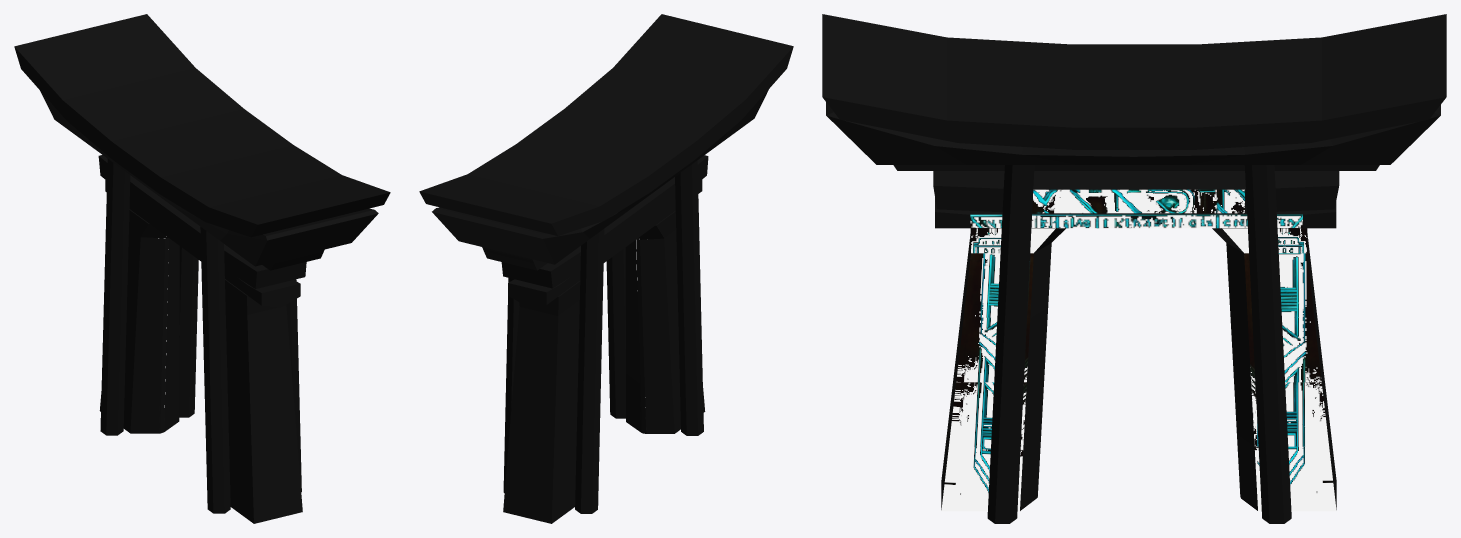
Rendered from Torii_Arch_2.fbx.
3 renders of one model, left to right at view 1: azimuth 30°, elevation 25°; view 2: azimuth 150°, elevation 25°; view 3: azimuth 270°, elevation 25°, orthographic. The views are drawn at different scales.
Parts seen in each view (by area): view 1: ToriiArch, ToriiArchWoodPosts, ToriiArchGlow; view 2: ToriiArch, ToriiArchWoodPosts, ToriiArchGlow; view 3: ToriiArch, ToriiArchWoodPosts, ToriiArchGlow.
Part boxes in pixels (bbox=[...]): ToriiArch: bbox=[14, 14, 390, 523]; ToriiArchWoodPosts: bbox=[100, 159, 301, 513]; ToriiArchGlow: bbox=[26, 63, 245, 433]; ToriiArch: bbox=[419, 14, 793, 523]; ToriiArchWoodPosts: bbox=[503, 160, 703, 513]; ToriiArchGlow: bbox=[563, 63, 781, 433]; ToriiArch: bbox=[822, 14, 1446, 511]; ToriiArchWoodPosts: bbox=[987, 165, 1291, 523]; ToriiArchGlow: bbox=[852, 107, 1416, 238].
Size of what is drawn, in the model's own units: 315 by 779 by 1000.
